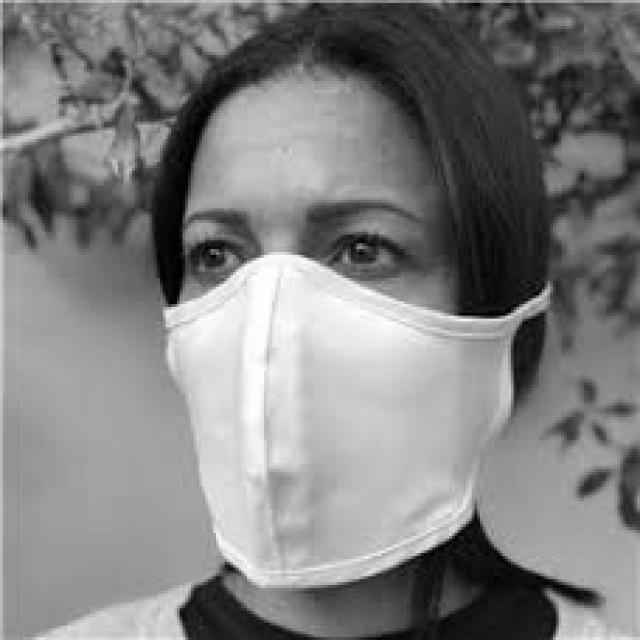fake: (162, 254, 527, 595)
real: (162, 61, 465, 600)
